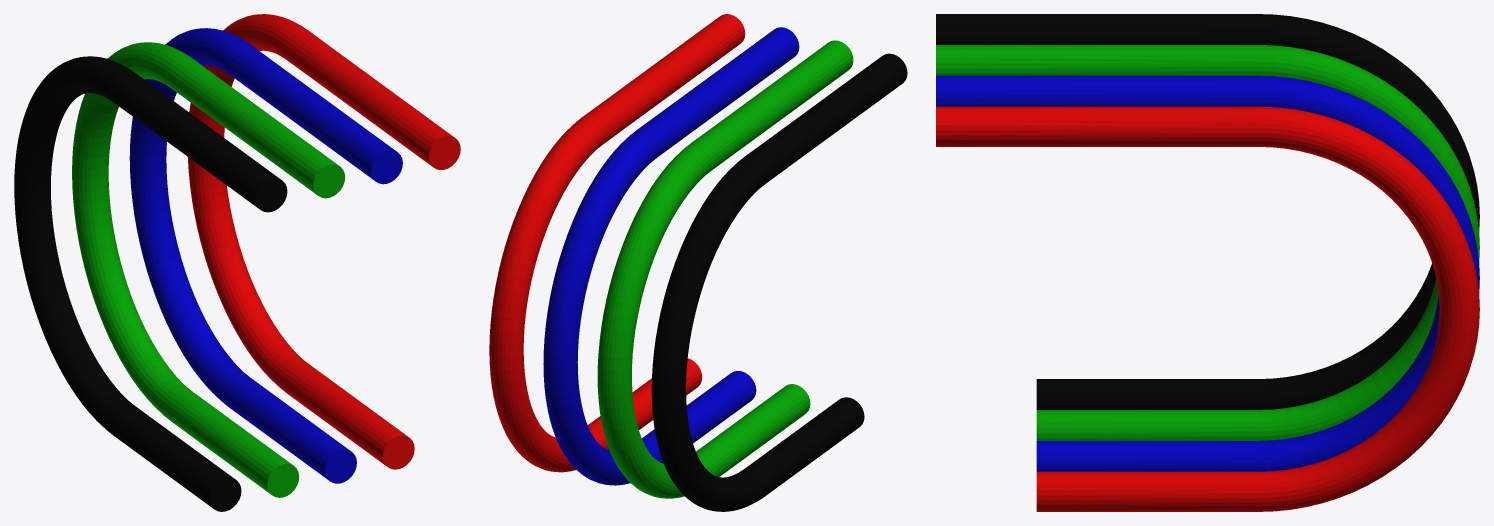
The model's file is ZDT_X35_L28Motor_STEP__WIRE_2_54_STEP_1.3dxml.glb.
The picture shows the model from 3 angles, left to right: view 1: azimuth 30°, elevation 25°; view 2: azimuth 150°, elevation 25°; view 3: azimuth 270°, elevation 25°; orthographic projection. The views are drawn at different scales.
Parts seen in each view (by area): view 1: WIRE_2.54.STEP; view 2: WIRE_2.54.STEP; view 3: WIRE_2.54.STEP.
Part boxes in pixels (x1,y1,x2,y2): WIRE_2.54.STEP: [14, 14, 460, 511]; WIRE_2.54.STEP: [489, 14, 907, 511]; WIRE_2.54.STEP: [936, 14, 1479, 511].
Size of the model in its own units: 0.00902 by 0.0154 by 0.0189.
